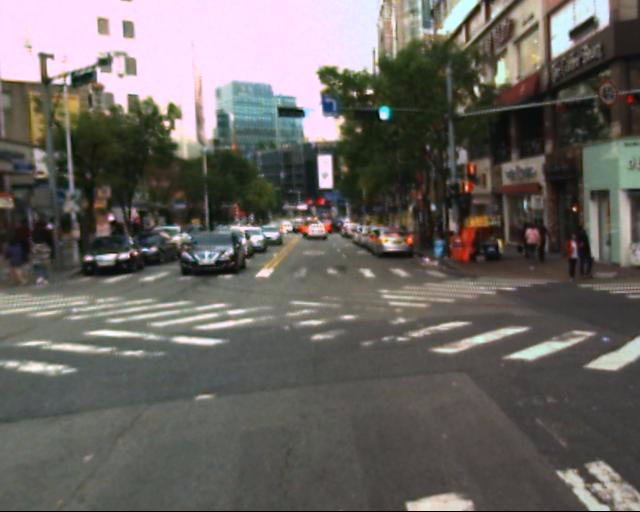person: (0, 204, 62, 283), (571, 216, 601, 285), (560, 228, 586, 286), (530, 213, 555, 269), (520, 214, 544, 270)
